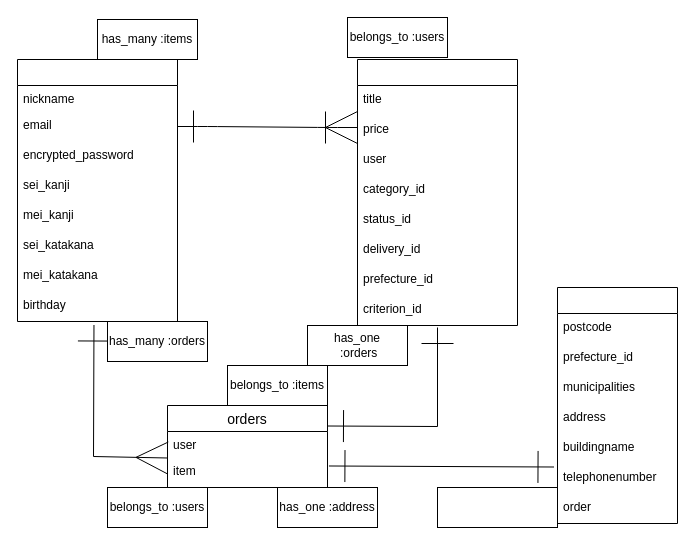
The diagram is 695 pixels wide and 545 high, and some of its shapes have lost their labels. Each missing label, with the box of its shape:
addresses: (556, 286, 678, 524)
belongs_to:orders: (436, 486, 558, 528)
items: (356, 58, 518, 326)
users: (16, 58, 178, 322)
